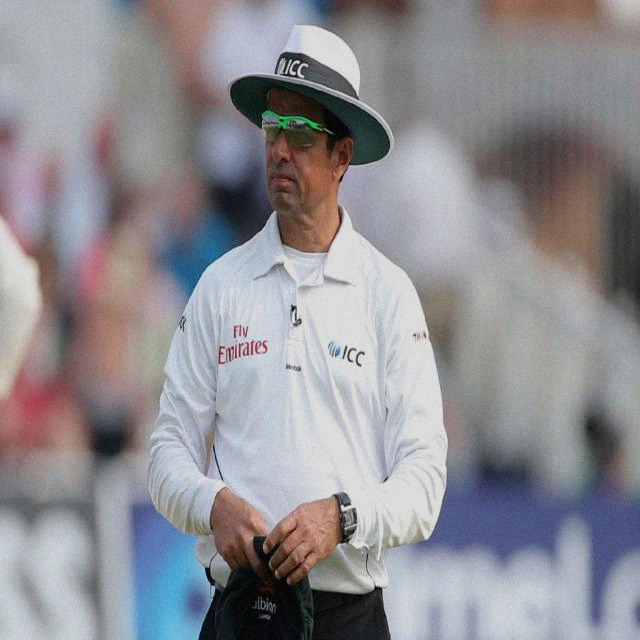No_Action: (143, 4, 463, 640)
